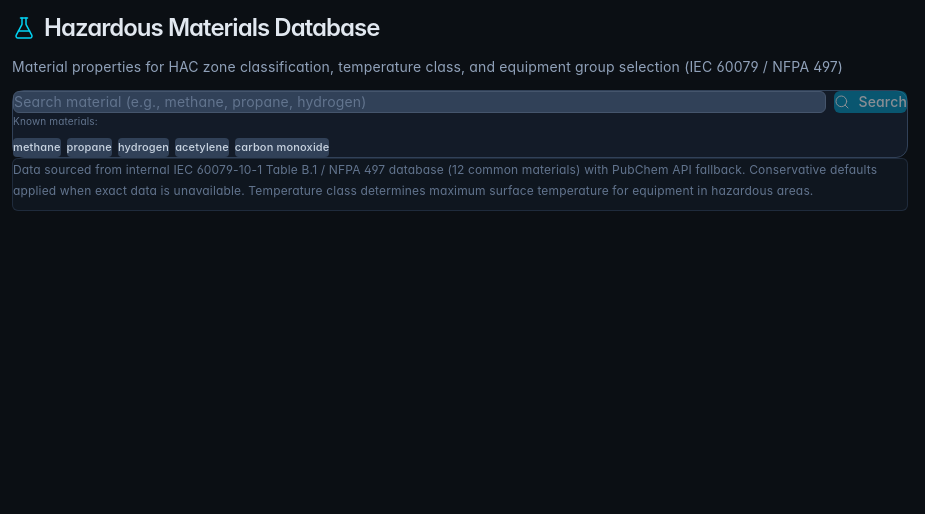
Test: HazMatPage › displays material group and temperature class
Click the button "methane": coordinates (37, 148) [13, 138, 61, 158]
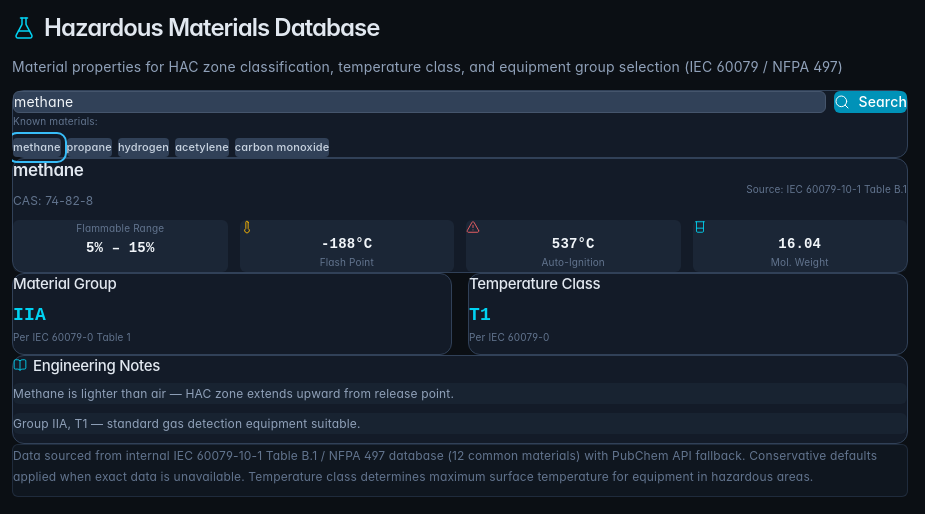
Expected: the text "IIA" is shown, [13, 304, 46, 324]
Expected: the text "T1" is shown, [469, 304, 491, 324]
